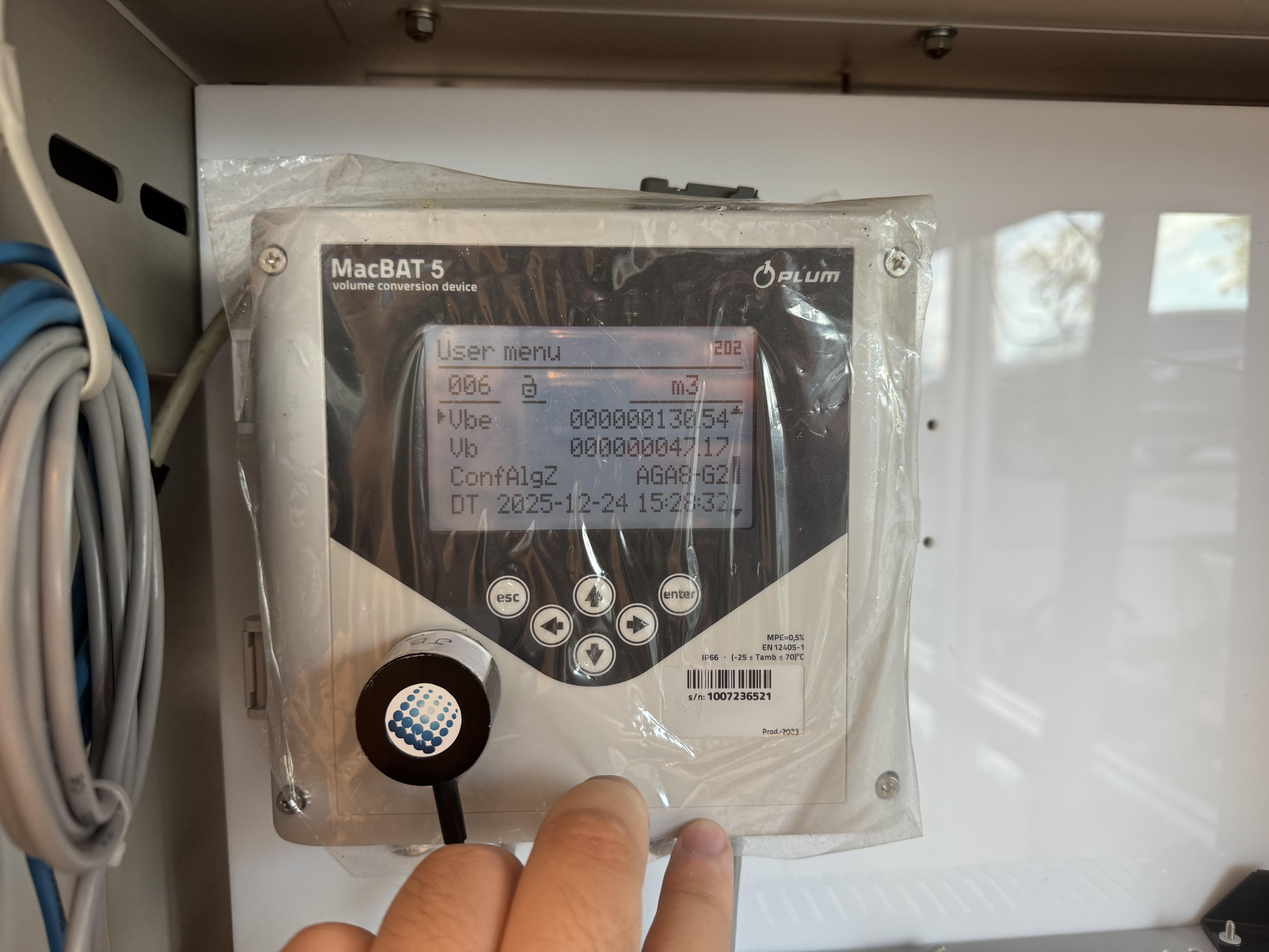digital_screen: (423, 324, 757, 532)
